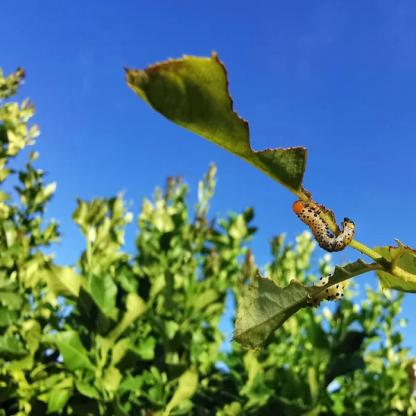sawfly: (283, 195, 356, 253), (310, 271, 349, 308)
